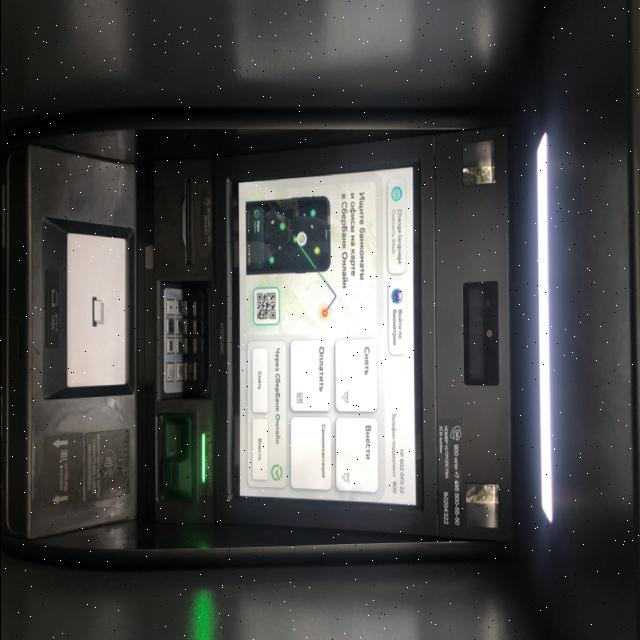bank: (0, 70, 561, 596)
